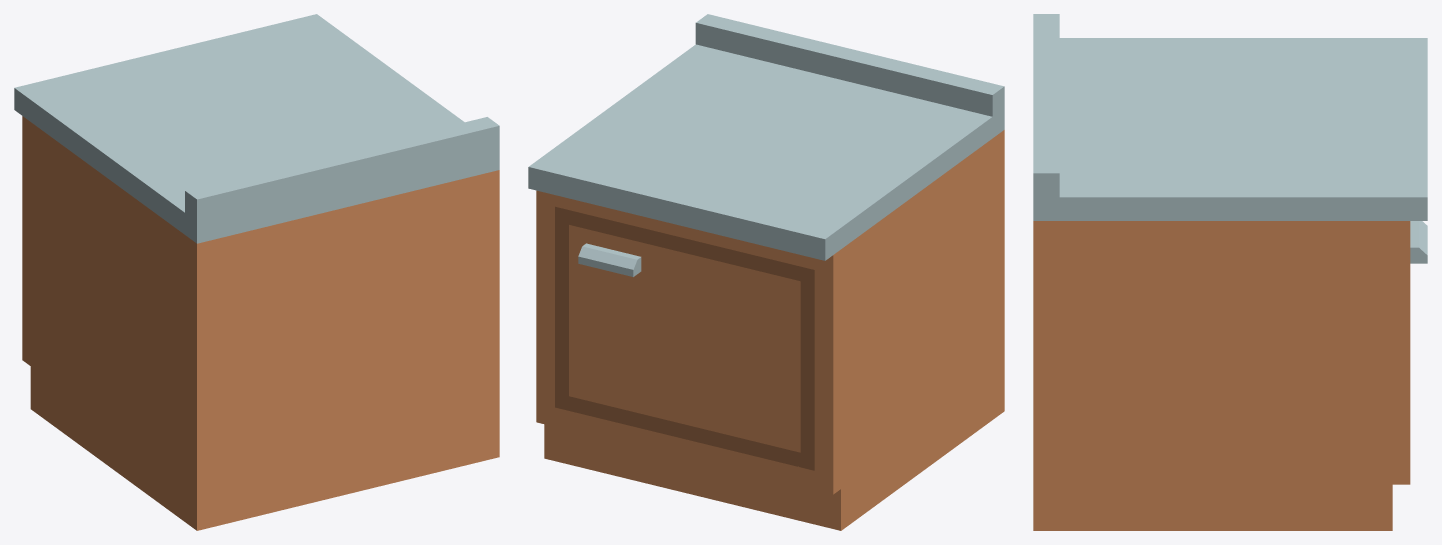
The model's file is kitchenCabinet.dae.
3 renders of one model, left to right at view 1: azimuth 30°, elevation 25°; view 2: azimuth 150°, elevation 25°; view 3: azimuth 270°, elevation 25°, orthographic. The views are drawn at different scales.
Visible parts, largest first — view 1: kitchenCabinet; view 2: kitchenCabinet, door; view 3: kitchenCabinet, door.
Boxes of the visible parts, <box> form: kitchenCabinet: <box>14,14,499,530</box>; kitchenCabinet: <box>528,14,1004,530</box>; door: <box>555,206,814,470</box>; kitchenCabinet: <box>1033,14,1427,530</box>; door: <box>1410,221,1427,263</box>.
Bounding box in the file's own units: 0.43 × 0.45 × 0.45.
